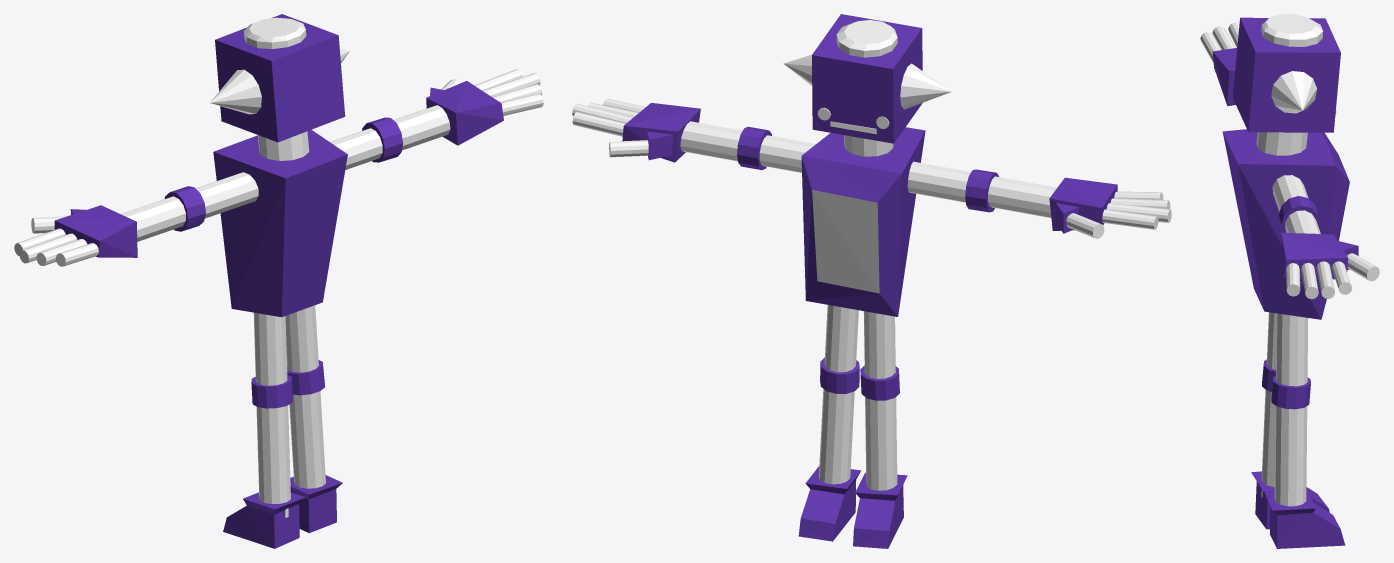
Rendered from scene_06wdlxyORt.glb.
3 views of the same model, side by side, from view 1: azimuth 30°, elevation 25°; view 2: azimuth 150°, elevation 25°; view 3: azimuth 270°, elevation 25° (orthographic). The views are drawn at different scales.
Parts seen in each view (by area): view 1: group689278371, group824015422, group222890972, group903374385, group2104892677, group1758319443, group2001824708, group560034351, group872661145, group1730131637, group1414748946, group613734349 (+4 smaller); view 2: group689278371, group824015422, group222890972, group2104892677, group903374385, group872661145, group1758319443, group2001824708, group560034351, group1730131637, group1414748946, group360900786 (+6 smaller); view 3: group689278371, group824015422, group2104892677, group872661145, group2001824708, group1730131637, group903374385, group1958736168, group222890972, group613734349, group560034351, group730457496 (+10 smaller).
Part boxes in pixels (box(x1,y1,x2,y2)): group689278371: box(213, 129, 347, 317); group824015422: box(215, 14, 345, 142); group222890972: box(121, 105, 450, 241); group903374385: box(253, 312, 290, 517); group2104892677: box(285, 305, 325, 488); group1758319443: box(223, 492, 305, 548); group2001824708: box(426, 81, 503, 145); group560034351: box(54, 205, 137, 257); group872661145: box(290, 475, 342, 533); group1730131637: box(244, 17, 306, 49); group1414748946: box(210, 69, 261, 114); group613734349: box(258, 131, 309, 160); group689278371: box(801, 127, 925, 316); group824015422: box(812, 14, 922, 143); group222890972: box(680, 121, 1056, 217); group2104892677: box(819, 305, 858, 484); group903374385: box(863, 311, 897, 490); group872661145: box(798, 466, 861, 541); group1758319443: box(853, 472, 907, 548); group2001824708: box(622, 103, 700, 162); group560034351: box(1049, 177, 1117, 230); group1730131637: box(836, 20, 897, 57); group1414748946: box(900, 63, 951, 109); group360900786: box(737, 126, 771, 169); group689278371: box(1222, 129, 1349, 319); group824015422: box(1233, 17, 1340, 132); group2104892677: box(1274, 313, 1308, 506); group872661145: box(1264, 489, 1345, 548); group2001824708: box(1281, 232, 1348, 279); group1730131637: box(1261, 14, 1323, 46); group903374385: box(1261, 312, 1276, 497); group1958736168: box(1271, 71, 1316, 113); group222890972: box(1272, 175, 1320, 233); group613734349: box(1256, 132, 1307, 155); group560034351: box(1212, 48, 1237, 106); group730457496: box(1271, 376, 1310, 409).
Bounding box in the file's own units: 2.8 × 2.43 × 0.7818.
